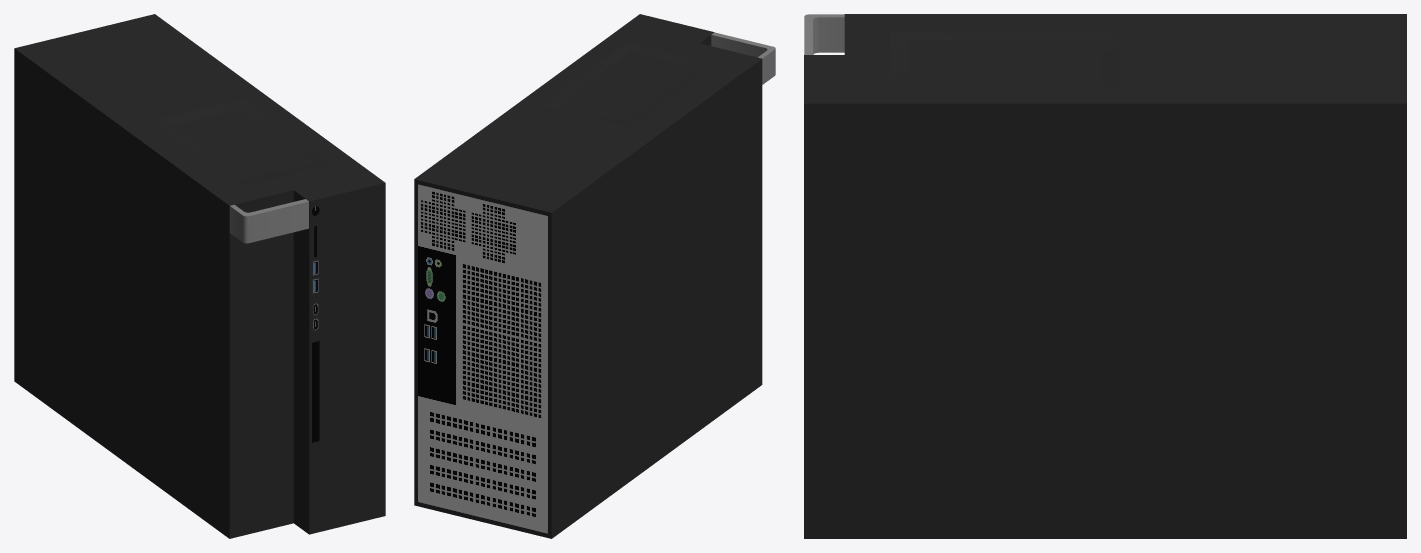
The model's file is computer.glb.
3 renders of one model, left to right at view 1: azimuth 30°, elevation 25°; view 2: azimuth 150°, elevation 25°; view 3: azimuth 270°, elevation 25°, orthographic. The views are drawn at different scales.
Visible parts, largest first — view 1: computer; view 2: computer; view 3: computer.
Part boxes in pixels (x1=…): computer: x1=14, y1=14, x2=385, y2=538; computer: x1=414, y1=14, x2=775, y2=538; computer: x1=804, y1=14, x2=1406, y2=538.
Bounding box in the file's own units: 0.1556 × 0.3525 × 0.4422.
Materials: 1 (1 with a texture image).
